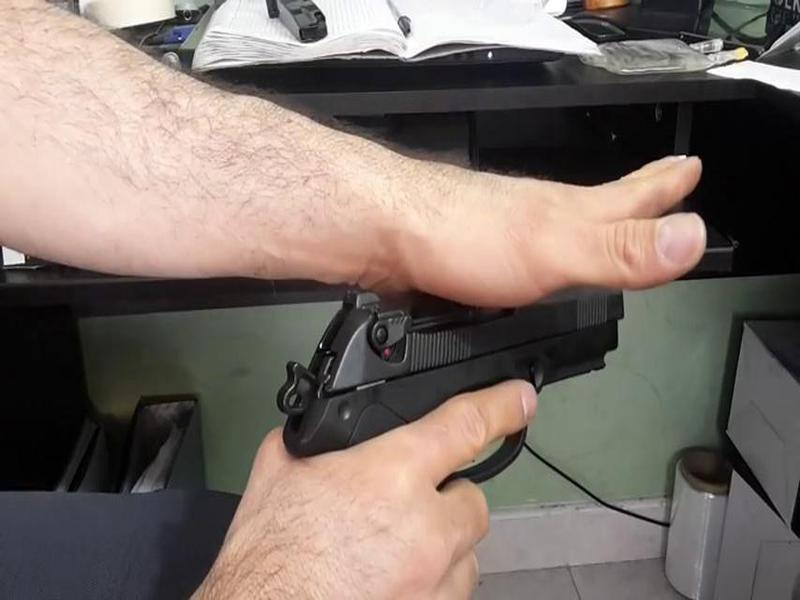Pistola: (221, 253, 647, 508)
